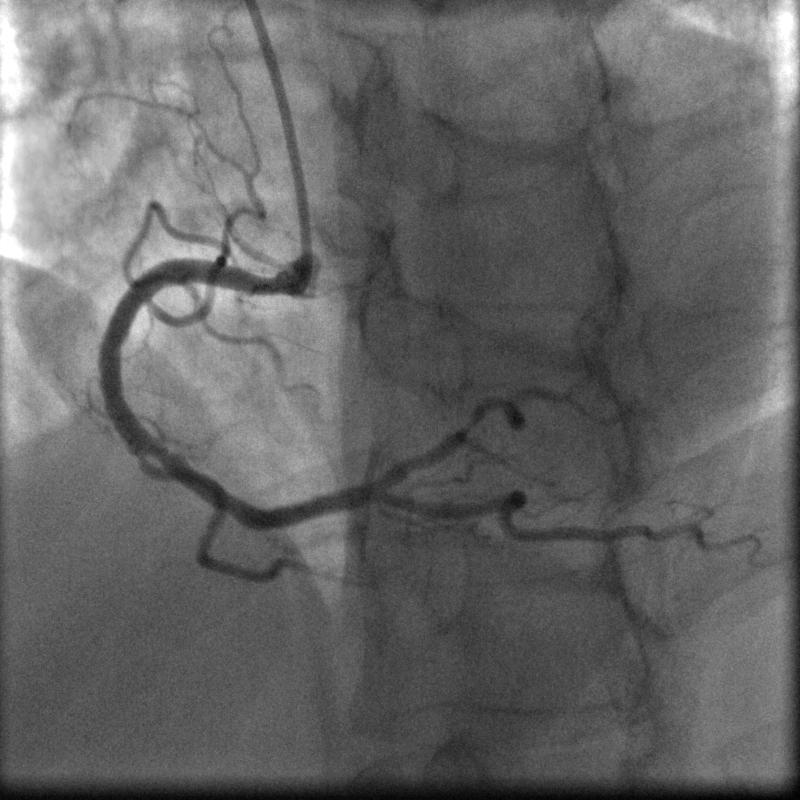Stenosis: (447, 405, 483, 438)
